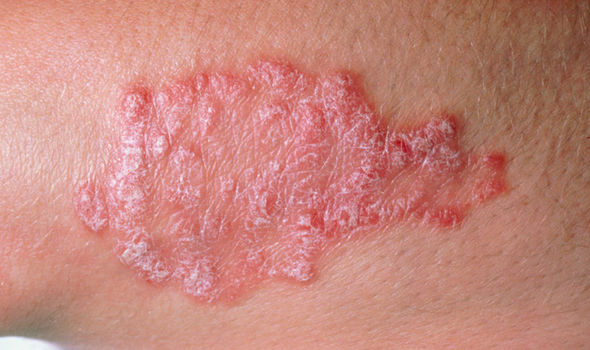Psoriasis: (94, 59, 462, 292)
